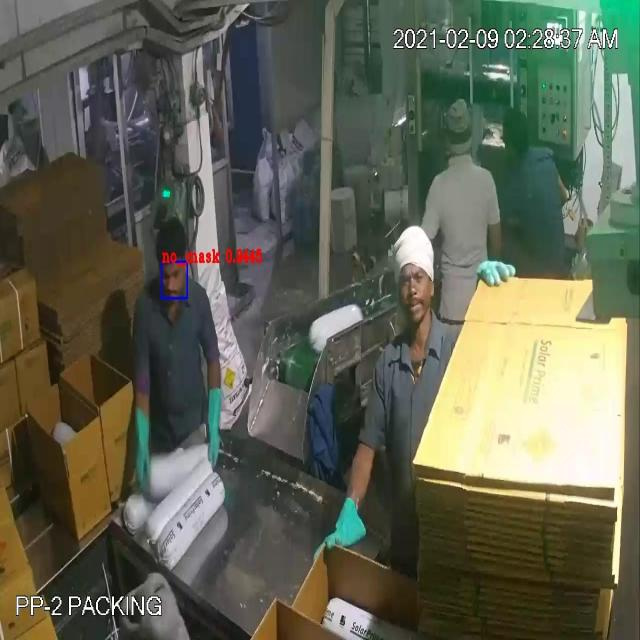gloves: (298, 487, 376, 565), (125, 396, 162, 498), (200, 371, 230, 473)
